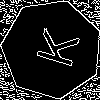K: (26, 24, 80, 69)
